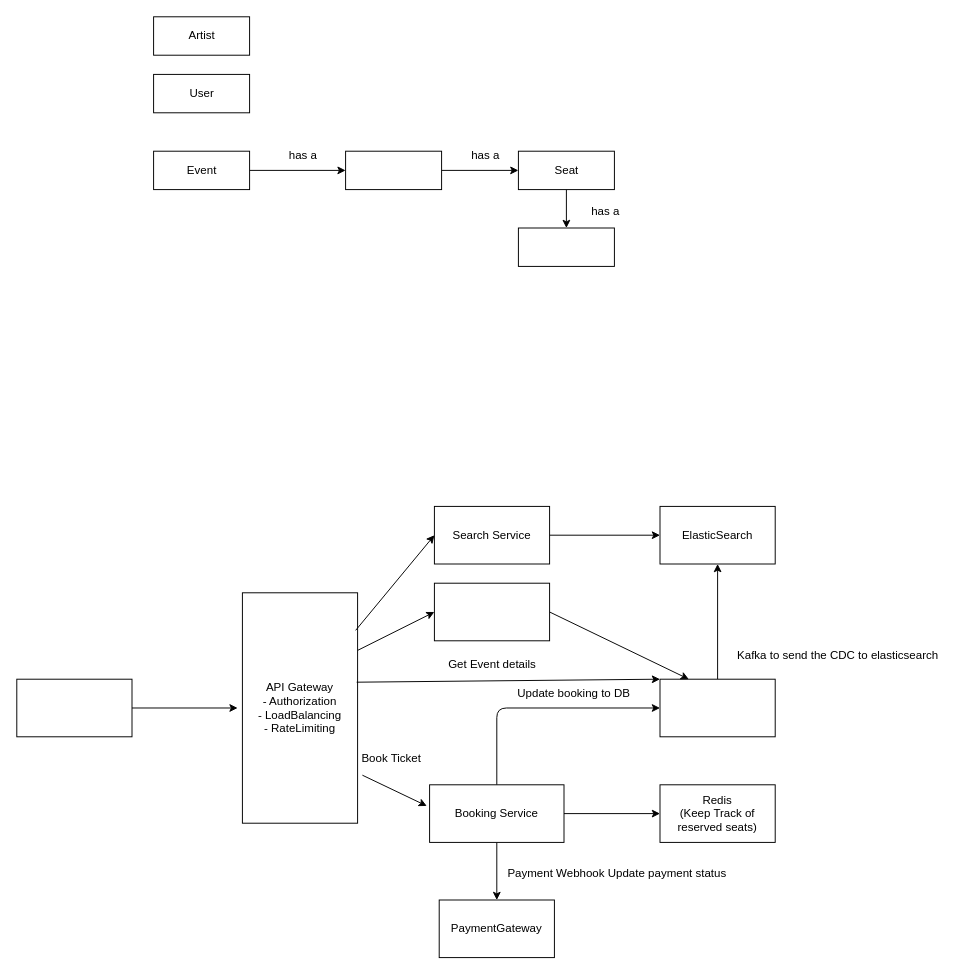
Some shapes in this 965 by 974 pixel diagram are drawn without their labels. The shapes that lost their labels are listed below. From the top down, each one's centre as x and y in pixels, then its label:
At point (393, 170): "Show".
At point (565, 246): "Ticket".
At point (491, 611): "Notification Service".
At point (74, 707): "Client".
At point (717, 707): "Postgres (MainDB)".
